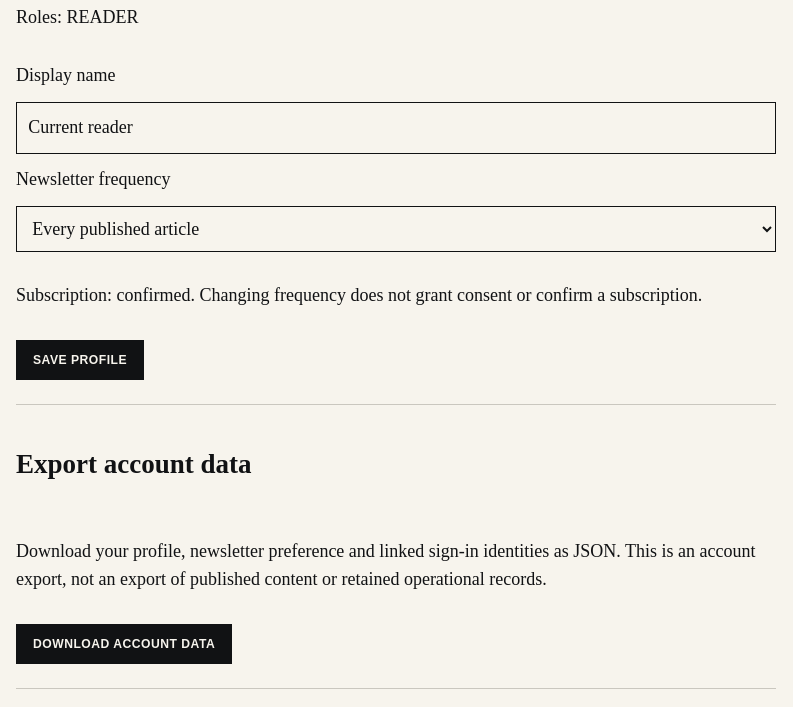
Test case: account settings › surfaces profile conflicts and never claims success
The width and height of the screenshot is (793, 707).
(page scrolled)
Click the button "Save profile": (80, 360) [16,340,144,380]
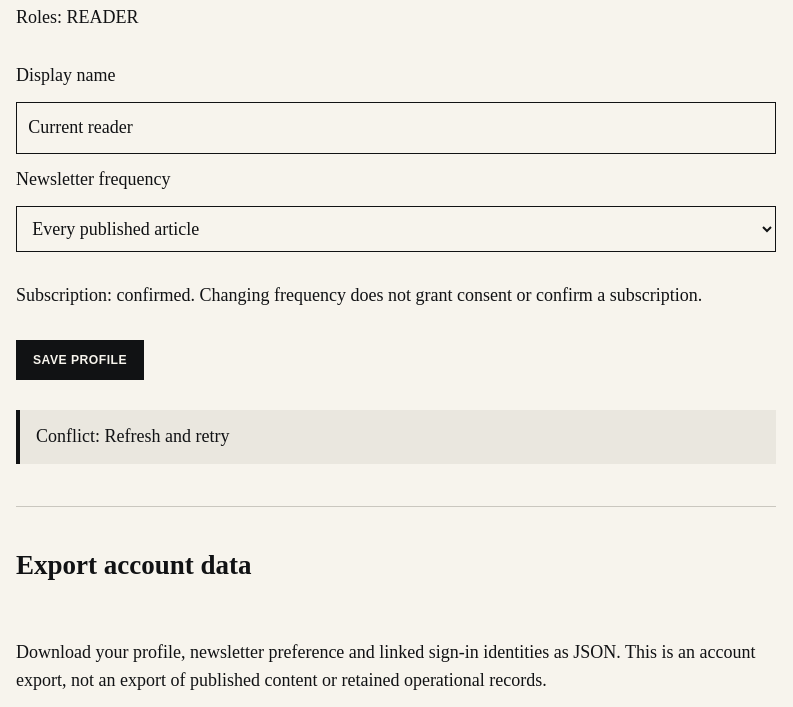
Now the message shows "Refresh and retry", box [36,426,230,446]
